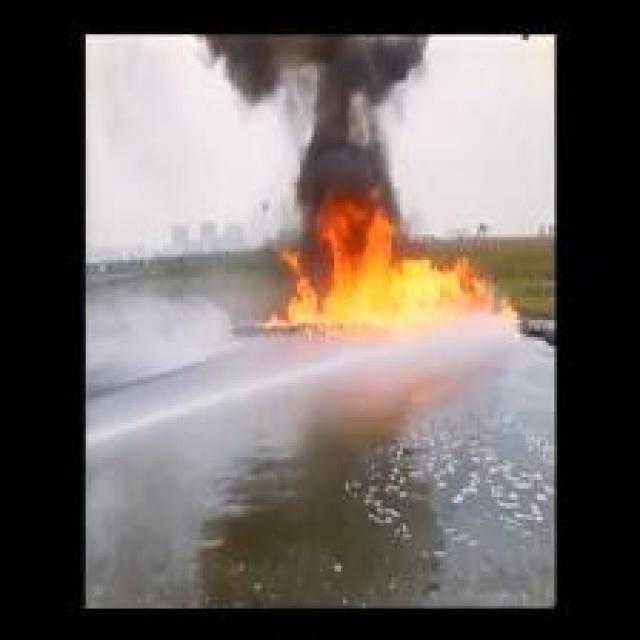Fire: (264, 186, 522, 326)
